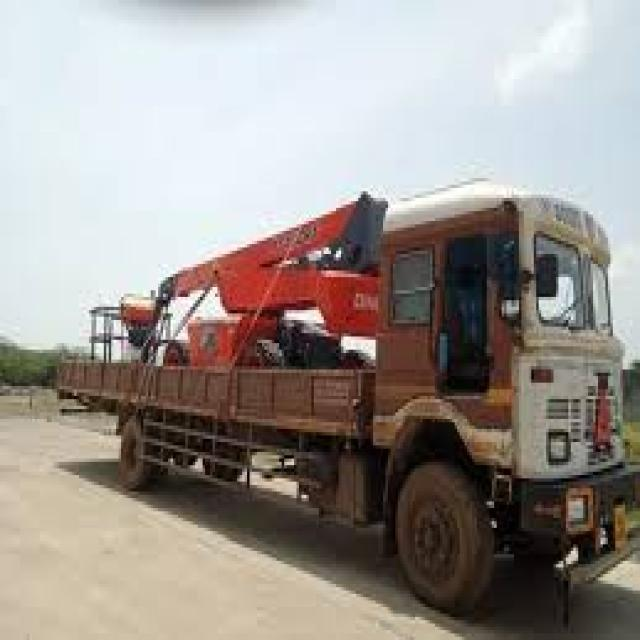uncovered: (63, 194, 630, 606)
